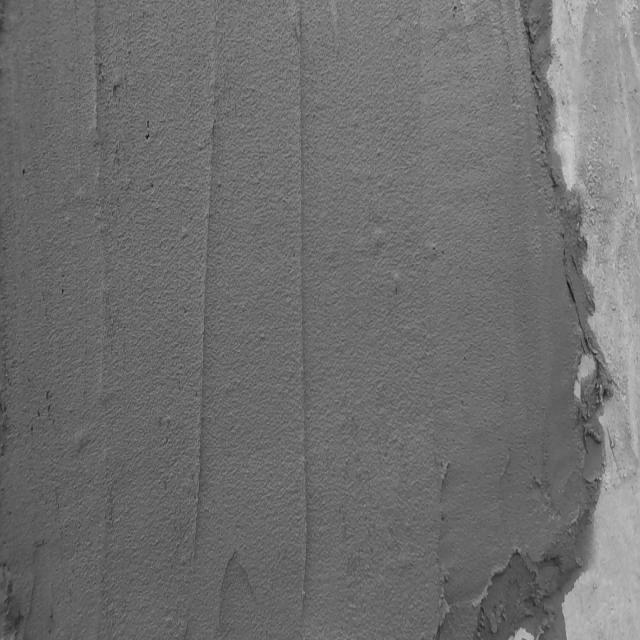trowels marks: (293, 19, 314, 618), (194, 110, 222, 540)
